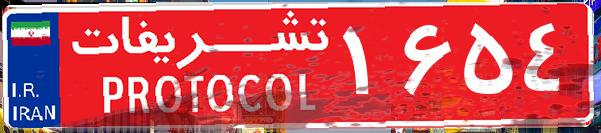1: (340, 20, 400, 115)
4: (520, 20, 580, 115)
5: (460, 20, 520, 115)
6: (400, 20, 460, 115)
تشریفات: (60, 8, 340, 125)
